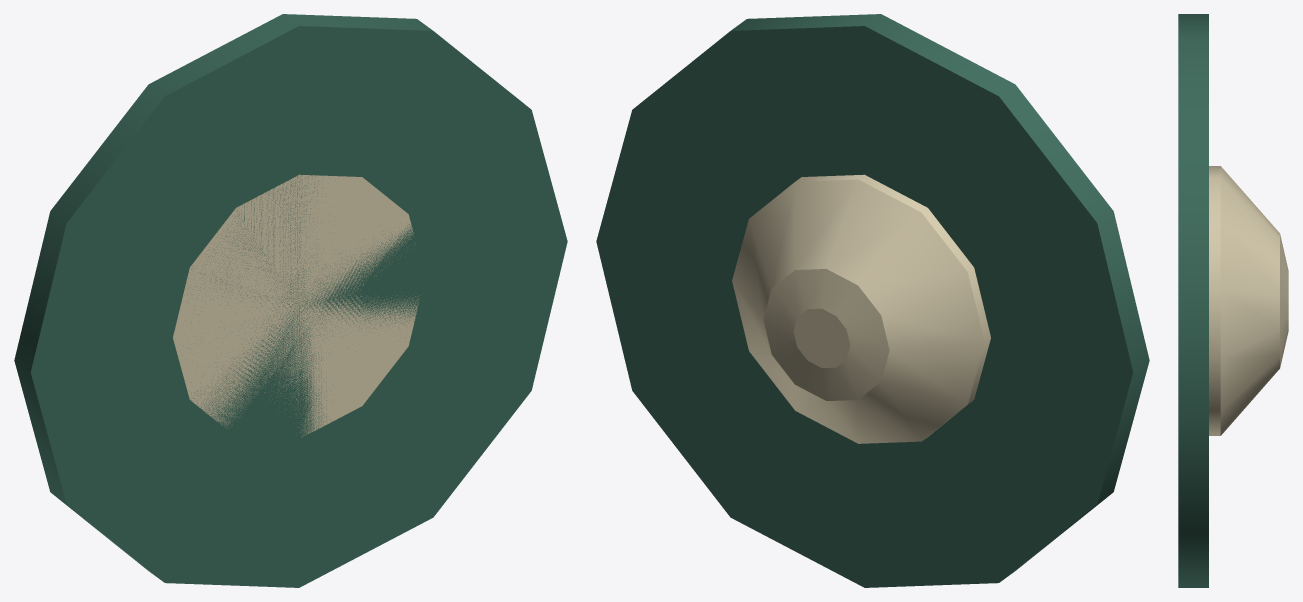
File: tank4200_coupler_fore.obj
3 views of the same model, side by side, from view 1: azimuth 30°, elevation 25°; view 2: azimuth 150°, elevation 25°; view 3: azimuth 270°, elevation 25° (orthographic). The views are drawn at different scales.
Parts seen in each view (by area): view 1: tank4200_coupler_fore; view 2: tank4200_coupler_fore; view 3: tank4200_coupler_fore.
Boxes of the visible parts, x1=… form: tank4200_coupler_fore: x1=14, y1=14, x2=567, y2=587; tank4200_coupler_fore: x1=596, y1=14, x2=1149, y2=587; tank4200_coupler_fore: x1=1178, y1=14, x2=1288, y2=587.
Size of the model in its own units: 3.4 by 3.4 by 0.65.
